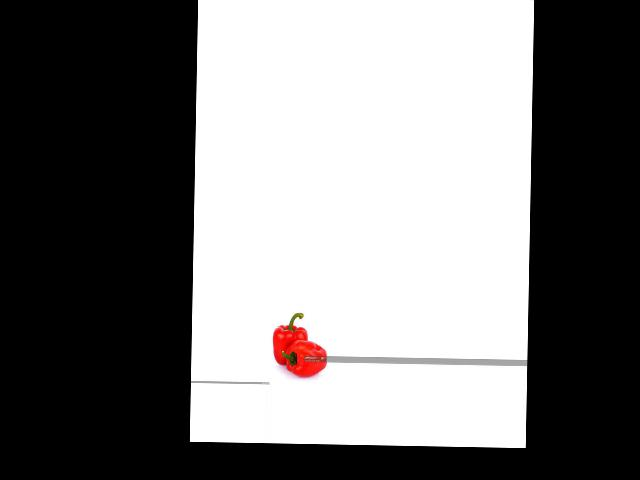bell_pepper: (282, 336, 332, 376)
